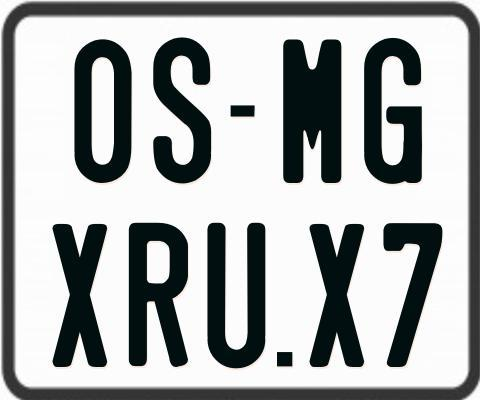0: (73, 39, 133, 189)
7: (383, 220, 448, 369)
G: (362, 36, 420, 186)
M: (281, 37, 342, 180)
R: (129, 221, 190, 370)
S: (153, 37, 213, 184)
U: (204, 220, 266, 370)
X: (52, 223, 107, 368), (309, 223, 363, 366)
